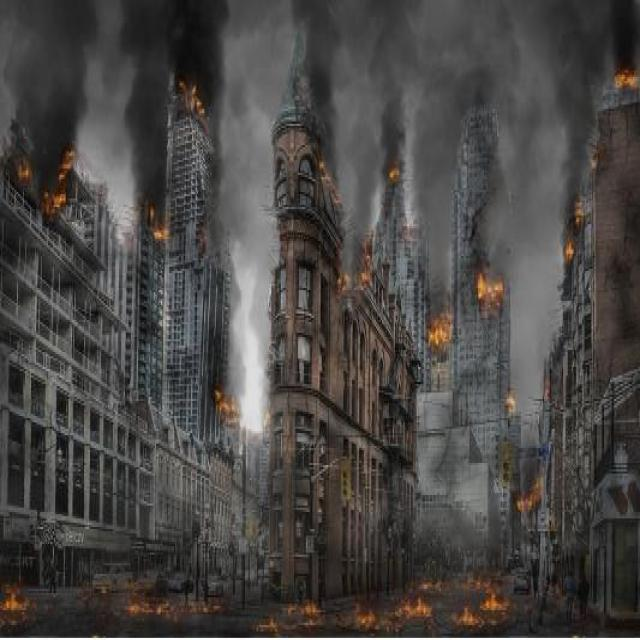fire: (19, 134, 72, 208), (452, 568, 501, 629), (127, 586, 197, 617), (392, 576, 440, 619), (469, 256, 504, 314), (332, 242, 372, 290), (209, 382, 247, 432), (313, 152, 344, 205), (269, 588, 314, 624), (607, 55, 637, 100), (427, 293, 453, 344), (514, 471, 546, 511), (142, 198, 168, 238), (181, 78, 205, 114), (0, 580, 24, 610), (564, 188, 584, 222), (501, 382, 519, 418), (354, 602, 372, 622), (562, 232, 572, 256), (387, 160, 400, 175)
smoke: (132, 4, 222, 188), (494, 112, 558, 276), (12, 9, 89, 145), (407, 21, 452, 206), (212, 108, 266, 251), (556, 41, 595, 182), (305, 18, 346, 151), (372, 33, 401, 153)
